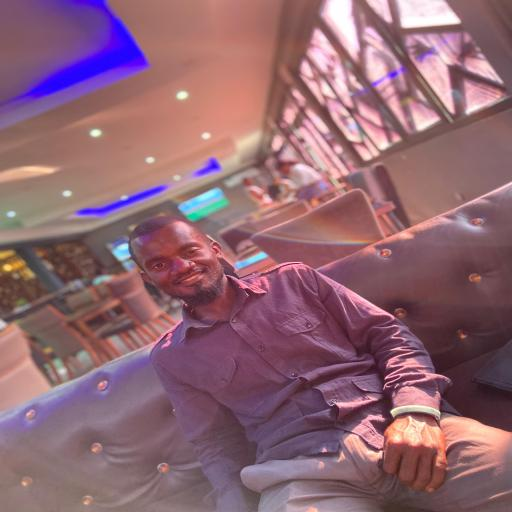MATTHIEU: (119, 203, 239, 311)
